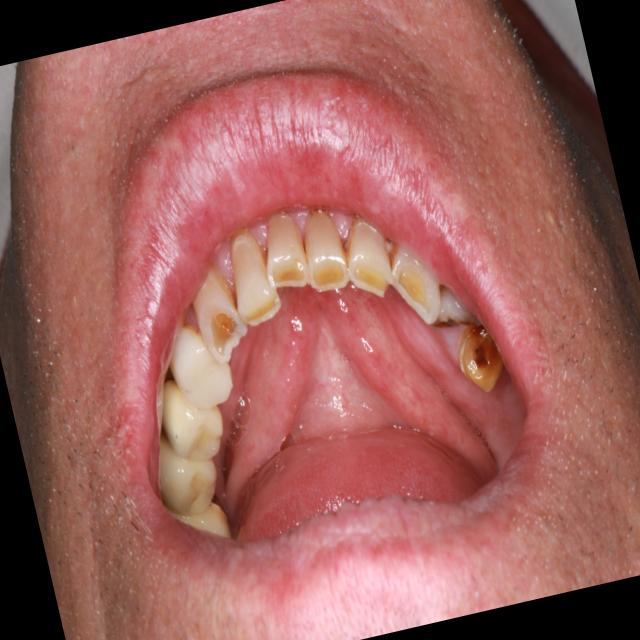tooth: (144, 360, 237, 475), (155, 304, 242, 420), (138, 416, 228, 527), (178, 248, 257, 372), (215, 212, 291, 337), (379, 224, 449, 334), (290, 189, 358, 301), (333, 203, 402, 309), (251, 201, 316, 306), (447, 307, 514, 404), (162, 486, 243, 563), (426, 272, 483, 342)
